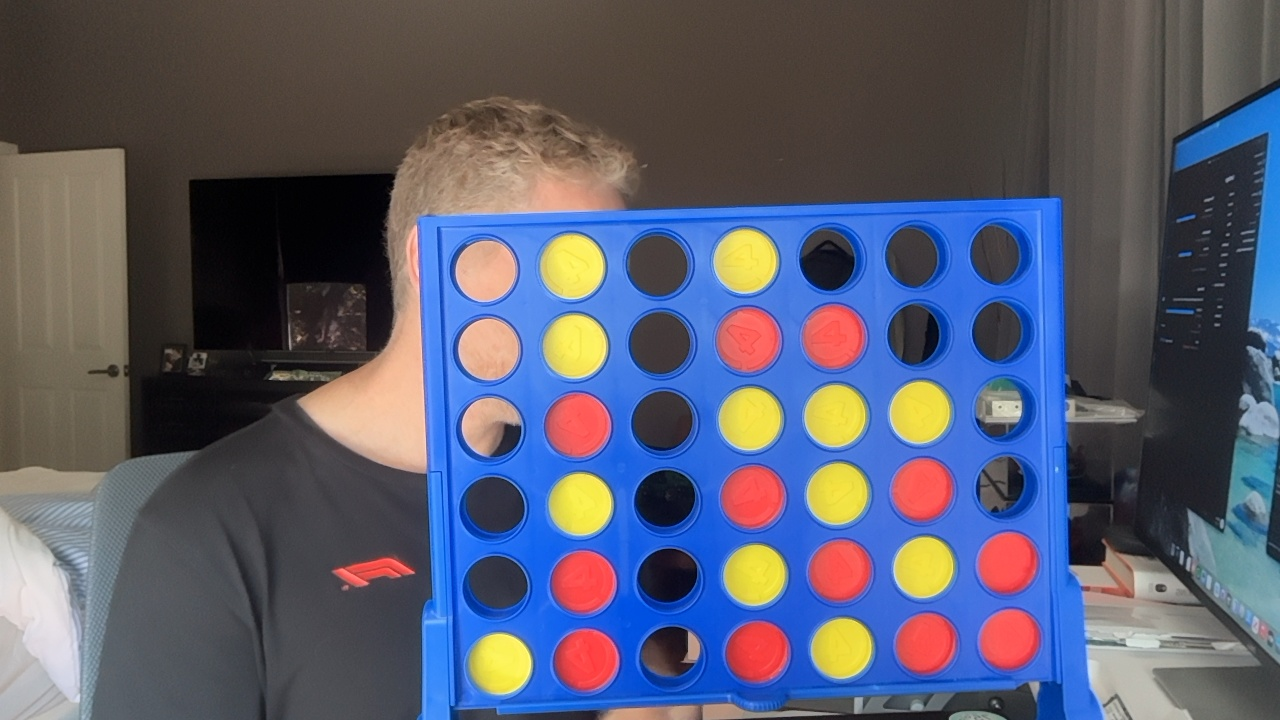red piece: (544, 392, 610, 457), (716, 307, 780, 372), (551, 550, 616, 614), (553, 629, 619, 692), (802, 304, 865, 369), (721, 465, 784, 529), (808, 539, 871, 602), (891, 458, 954, 521), (725, 621, 789, 683), (895, 613, 957, 675), (979, 609, 1040, 671), (978, 532, 1037, 594)
yellow piece: (713, 228, 778, 294), (539, 233, 604, 299), (542, 313, 607, 378), (548, 472, 613, 537), (718, 386, 782, 451), (467, 632, 531, 696), (806, 461, 869, 526), (723, 543, 786, 607), (804, 383, 866, 448), (810, 617, 873, 680), (890, 380, 952, 444), (894, 536, 954, 599)
